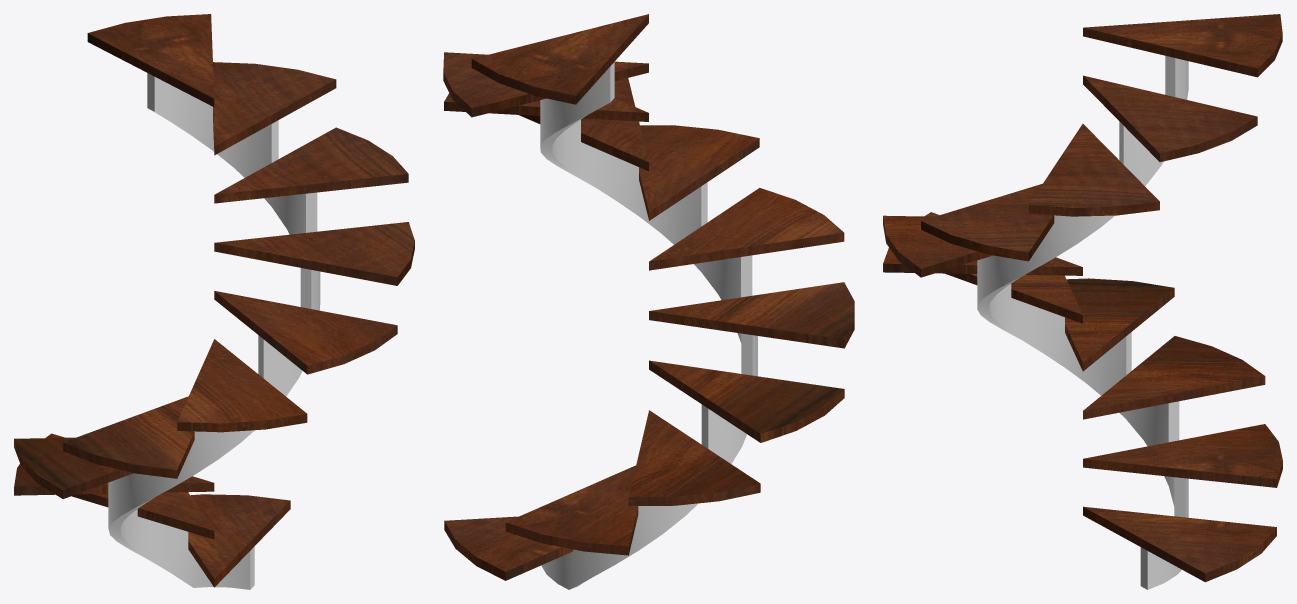
The model's file is spiral_stairs_02.glb.
3 views of the same model, side by side, from view 1: azimuth 30°, elevation 25°; view 2: azimuth 150°, elevation 25°; view 3: azimuth 270°, elevation 25° (orthographic). The views are drawn at different scales.
Visible parts, largest first — view 1: StaticMeshActor_0_StaticMeshComponent0; view 2: StaticMeshActor_0_StaticMeshComponent0; view 3: StaticMeshActor_0_StaticMeshComponent0.
Part boxes in pixels (x1,y1,x2,y2): StaticMeshActor_0_StaticMeshComponent0: [14, 14, 414, 589]; StaticMeshActor_0_StaticMeshComponent0: [443, 14, 854, 589]; StaticMeshActor_0_StaticMeshComponent0: [883, 14, 1282, 589].
Size of the model in its own units: 4.1 by 5.97 by 4.1.
Materials: 2 (1 with a texture image).
